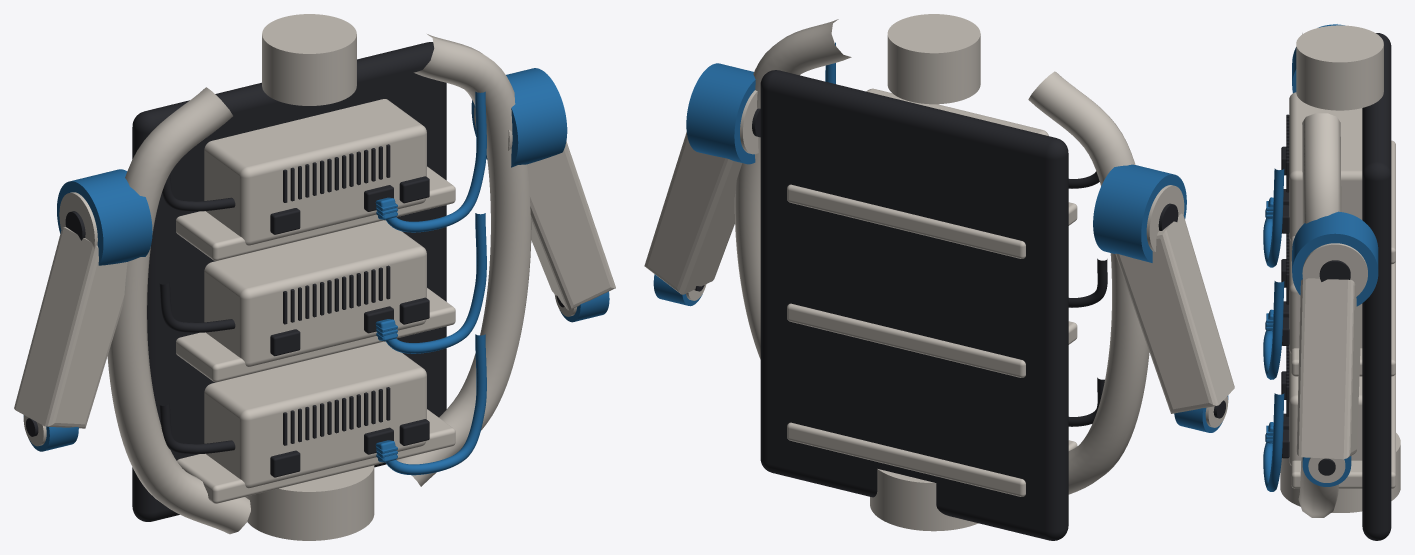
File: anatomy-39.glb
The picture shows the model from 3 angles, left to right: view 1: azimuth 30°, elevation 25°; view 2: azimuth 150°, elevation 25°; view 3: azimuth 270°, elevation 25°; orthographic projection. The views are drawn at different scales.
Parts seen in each view (by area): view 1: modules, frame, arms, neck, trays, bus, ports, power, boot-covers; view 2: frame, arms, trays, neck, power, modules; view 3: frame, arms, neck, modules, bus, trays, ports, boot-covers.
Boxes of the visible parts, left/top/right/bottom form: modules: left=204, top=99, right=426, bottom=488; frame: left=107, top=34, right=531, bottom=534; arms: left=14, top=68, right=615, bottom=451; neck: left=245, top=14, right=374, bottom=540; trays: left=176, top=166, right=455, bottom=503; bus: left=385, top=91, right=486, bottom=475; ports: left=270, top=176, right=429, bottom=477; power: left=159, top=173, right=235, bottom=453; boot-covers: left=375, top=197, right=397, bottom=462; frame: left=734, top=19, right=1149, bottom=540; arms: left=644, top=63, right=1234, bottom=432; trays: left=787, top=184, right=1077, bottom=496; neck: left=870, top=14, right=980, bottom=531; power: left=1068, top=171, right=1107, bottom=426; modules: left=866, top=88, right=1048, bottom=135; frame: left=1298, top=33, right=1391, bottom=540; arms: left=1292, top=24, right=1378, bottom=486; neck: left=1280, top=25, right=1400, bottom=512; modules: left=1286, top=92, right=1362, bottom=465; bus: left=1263, top=168, right=1284, bottom=491; trays: left=1291, top=140, right=1395, bottom=488; ports: left=1281, top=146, right=1289, bottom=458; boot-covers: left=1265, top=197, right=1273, bottom=443.
Bounding box in the file's own units: 2.62 × 2.06 × 0.5774.
